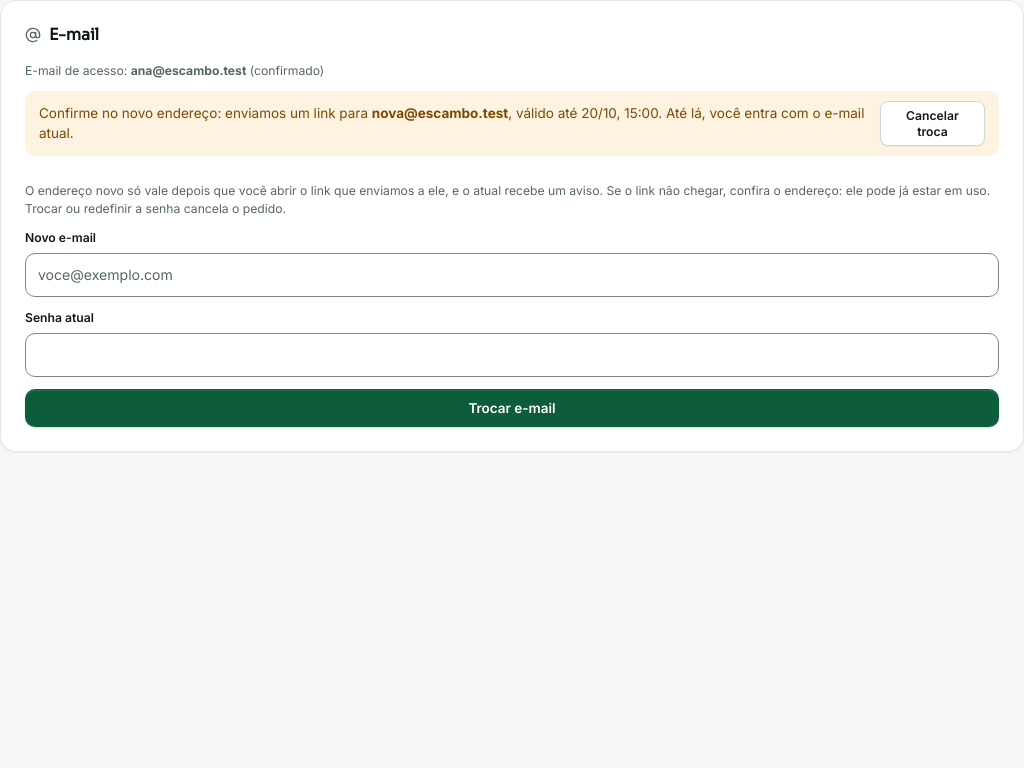
Test: EmailCard › pedido pendente: "Cancelar troca" desiste pela API e o aviso some
Click the button "Cancelar troca": [932, 124] box [880,101,985,146]
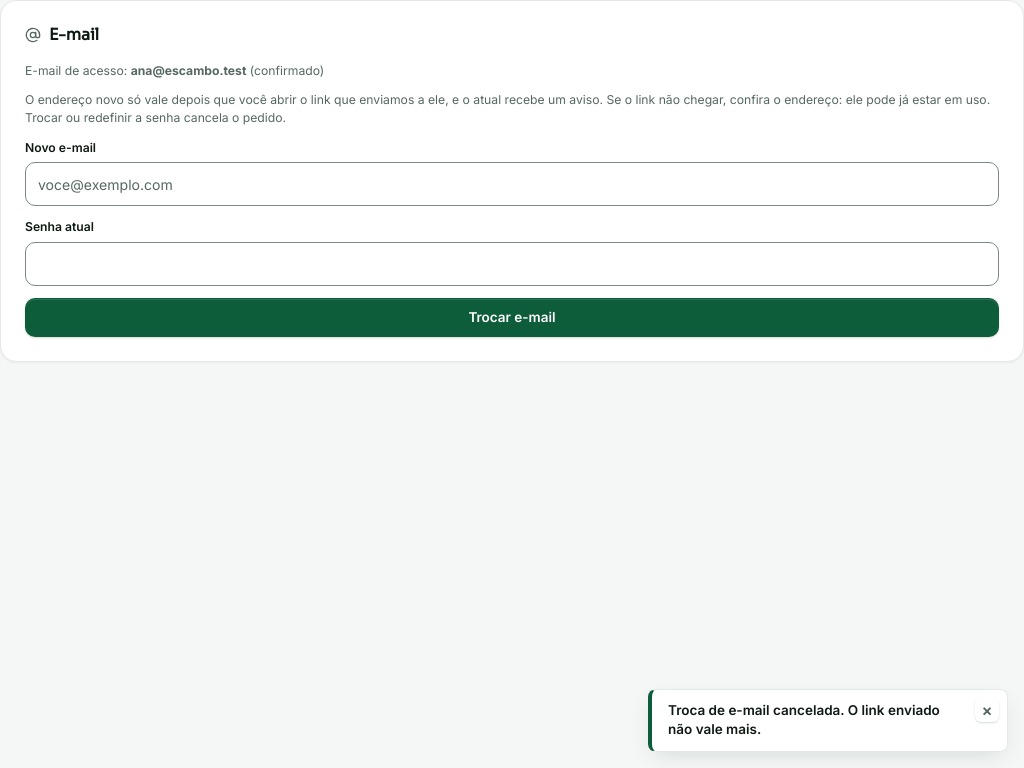
Check: the message with test id "email-pendente" is gone
Check: the text "Troca de e-mail cancelada. O link enviado não vale mais." is shown, box [668,701,967,740]
